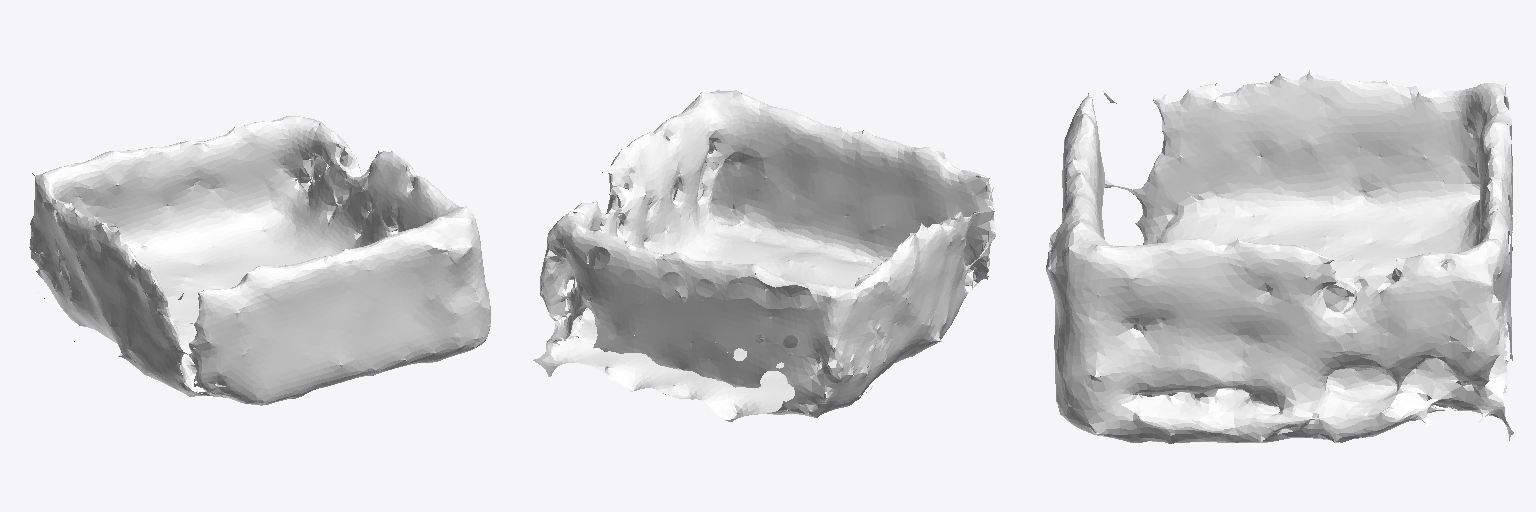
The robot description file, URDF, robot "lid.urdf":
<?xml version="1.0" ?>
<robot name="lid.urdf">
  <link name="baseLink">
    <contact>
      <lateral_friction value="1.0"/>
      <inertia_scaling value="1.0"/>
    </contact>
    <inertial>
      <origin rpy="0 0 0" xyz="0.000000 0.000000 0.000000"/>
      <mass value="0.000000"/>
      <inertia ixx="0.000000" ixy="0.000000" ixz="0.000000" iyy="0.000000" iyz="0.000000" izz="0.000000"/>
    </inertial>
    <visual>
      <origin rpy="0 0 0" xyz="0 0 0"/>
      <geometry>
       <mesh filename="lid.obj" scale="1 1 1"/>
      </geometry>
       <material name="white">
        <color rgba="1 1 1 1"/>
      </material>
    </visual>
    <collision>
      <origin rpy="0 0 0" xyz="0 0 0"/>
      <geometry>
        <mesh filename="lid_vhacd.obj" scale="1 1 1"/>
      </geometry>
    </collision>
  </link>
</robot>

--- What the picture shows (computed from the rendered views, not written in the file) ---
The picture shows the robot from 3 angles, left to right: view 1: azimuth 30°, elevation 25°; view 2: azimuth 150°, elevation 25°; view 3: azimuth 270°, elevation 25°; orthographic projection.
Model lid.urdf with 1 links and 0 joints (none), rooted at baseLink, posed every joint at zero.
Links seen in each view (by area): view 1: baseLink; view 2: baseLink; view 3: baseLink.
Link boxes in pixels (left/top/right/bottom): baseLink: left=29, top=116, right=490, bottom=405; baseLink: left=533, top=90, right=995, bottom=421; baseLink: left=1046, top=69, right=1513, bottom=443.
Size in the robot's own frame: 0.1076 by 0.1039 by 0.052 metres.
Meshes: 1 distinct files referenced, 1 mesh visuals loaded (1 OBJ).